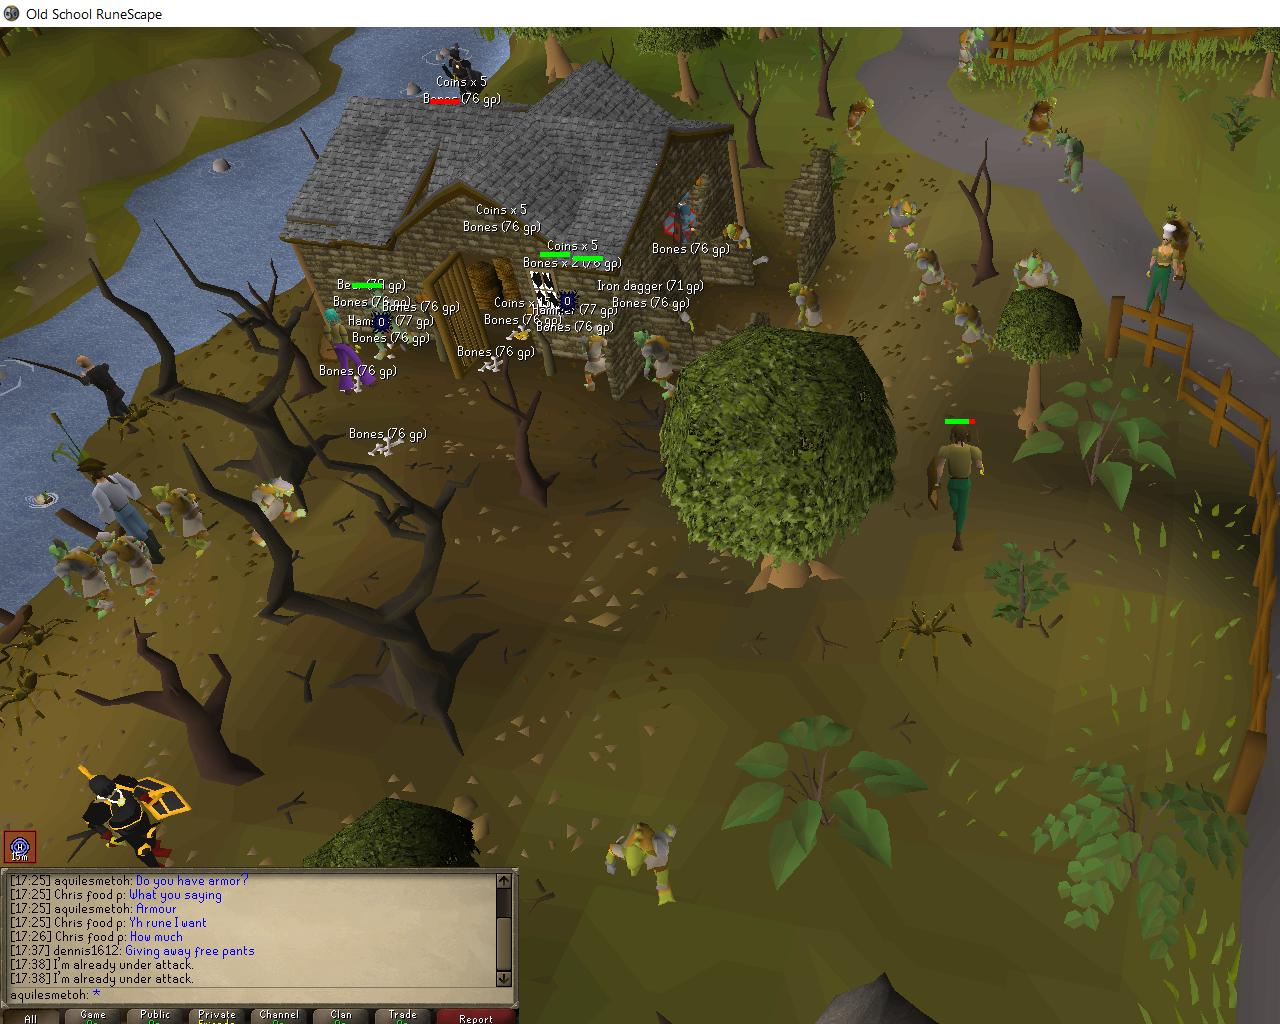Goblin: (599, 815, 682, 906), (48, 538, 116, 622), (96, 531, 165, 605), (150, 483, 214, 559), (243, 475, 309, 549), (630, 331, 686, 400), (941, 300, 1000, 365), (903, 245, 960, 302), (579, 325, 616, 393), (1013, 249, 1060, 296), (1056, 125, 1088, 194), (1020, 94, 1058, 147), (785, 282, 824, 332), (880, 196, 921, 243), (843, 97, 876, 150), (721, 222, 755, 265)
